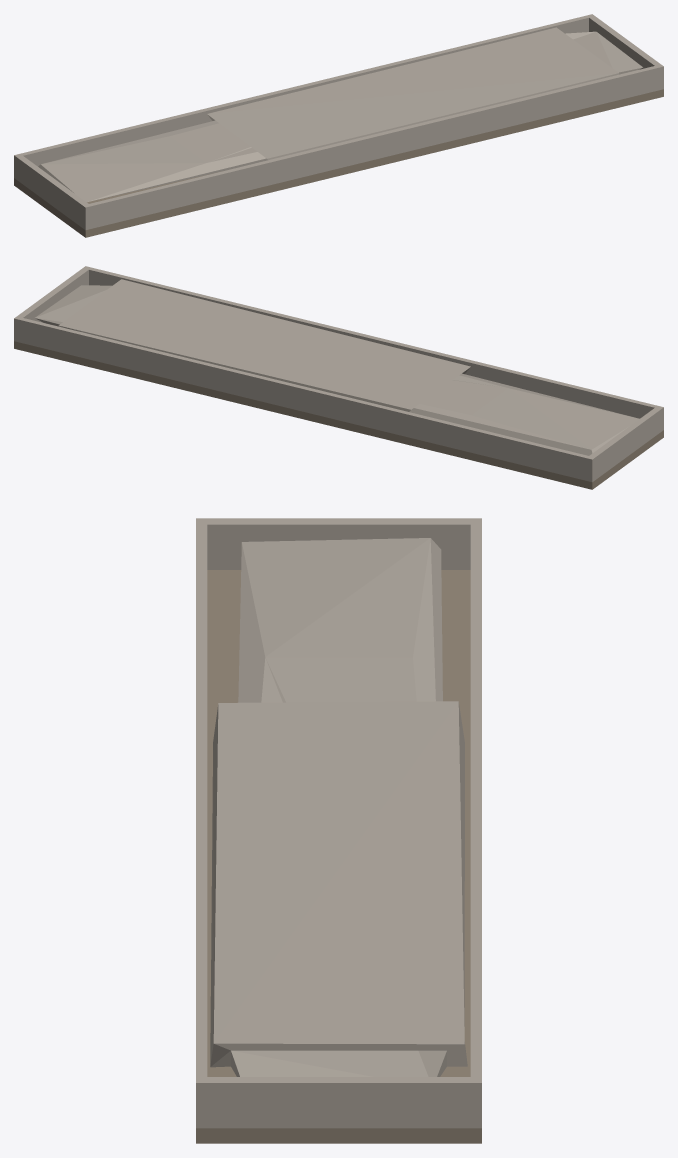
File: open_bunk_upper.glb
3 views of the same model, one above another, from view 1: azimuth 30°, elevation 25°; view 2: azimuth 150°, elevation 25°; view 3: azimuth 270°, elevation 25° (orthographic). The views are drawn at different scales.
Parts seen in each view (by area): view 1: open_bunk_upper; view 2: open_bunk_upper; view 3: open_bunk_upper.
Boxes of the visible parts, x1,y1,x2,y2 form: open_bunk_upper: [14, 14, 663, 237]; open_bunk_upper: [14, 266, 663, 489]; open_bunk_upper: [196, 518, 481, 1143].
Bounding box in the file's own units: 2.8 × 0.14 × 0.6.
